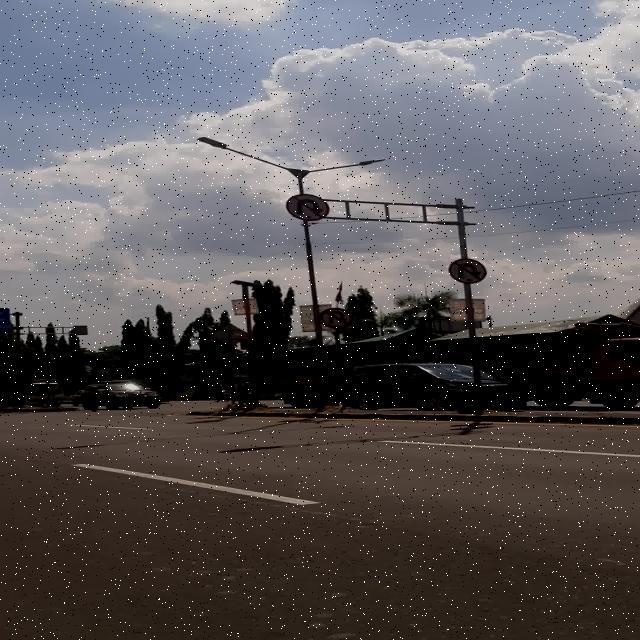Dilarang Putar Balik: (285, 193, 330, 220), (448, 258, 487, 284), (319, 308, 354, 328)
